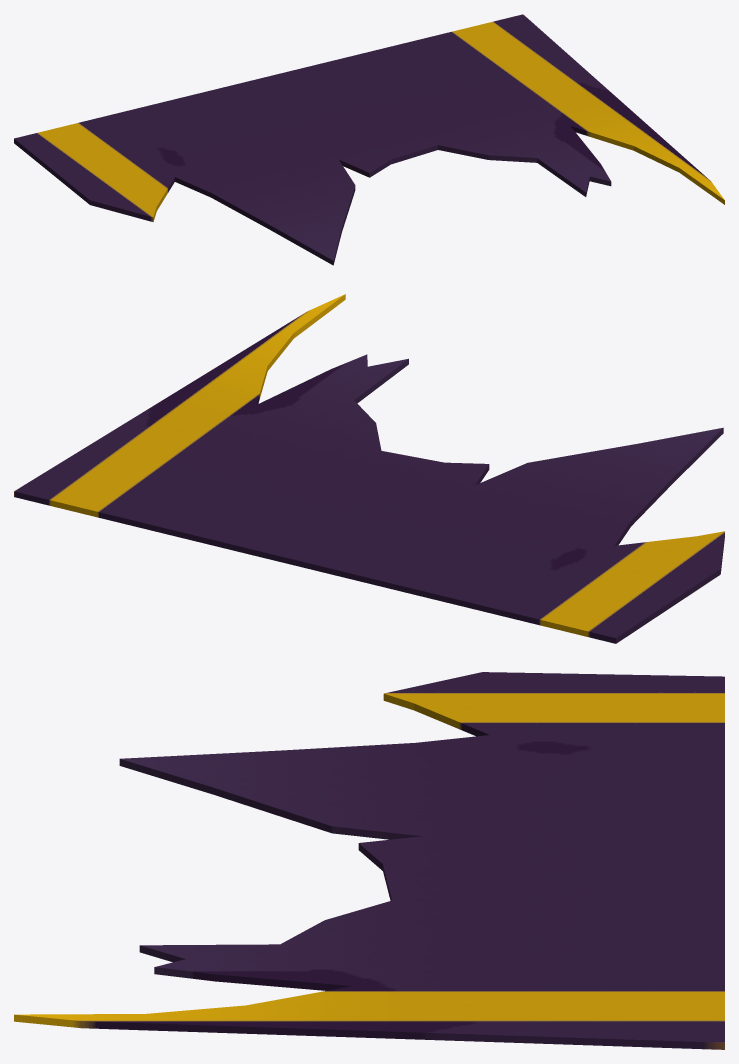
The model's file is Carpet 01 End 01.fbx.
3 views of the same model, one above another, from view 1: azimuth 30°, elevation 25°; view 2: azimuth 150°, elevation 25°; view 3: azimuth 270°, elevation 25° (orthographic). The views are drawn at different scales.
Visible parts, largest first — view 1: Carpet 01 End 01; view 2: Carpet 01 End 01; view 3: Carpet 01 End 01.
Boxes of the visible parts, bbox=[...] form: Carpet 01 End 01: bbox=[14, 14, 724, 265]; Carpet 01 End 01: bbox=[14, 294, 724, 643]; Carpet 01 End 01: bbox=[14, 672, 724, 1049].
Size of the model in its own units: 169 by 1.5 by 137.
